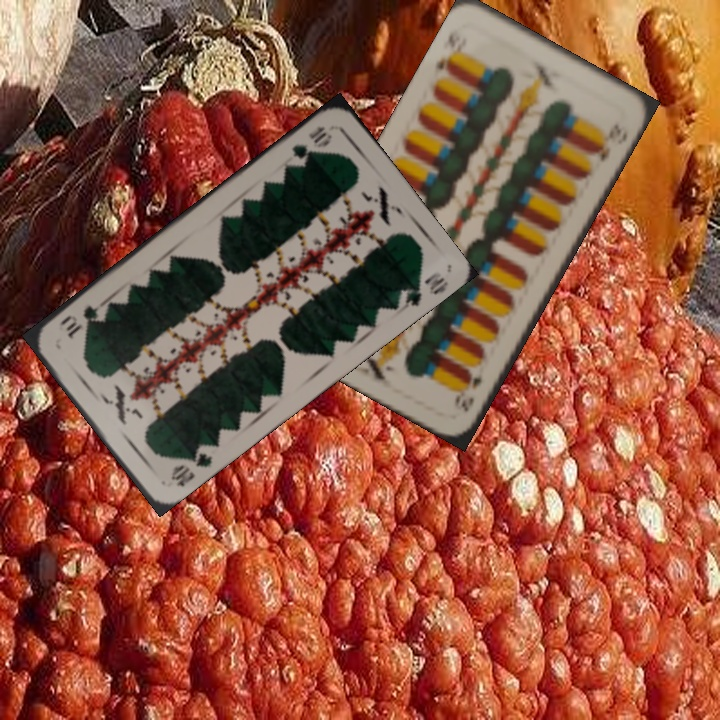E10: (431, 23, 467, 79), (450, 364, 487, 415)
G10: (166, 439, 215, 490), (288, 122, 335, 162)
